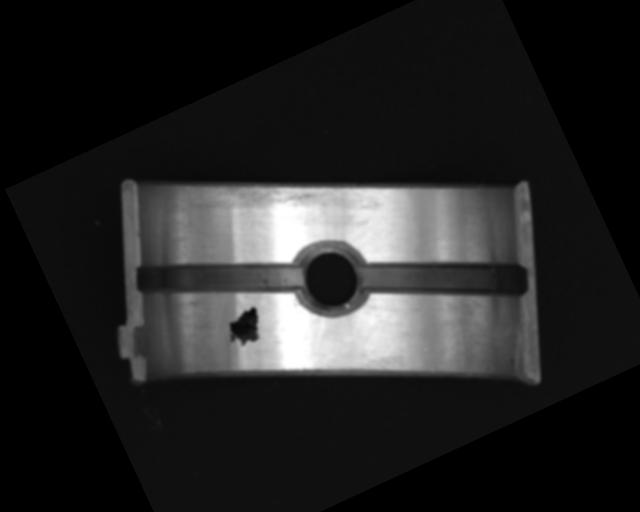blot: (218, 303, 269, 352)
gap: (356, 206, 531, 351), (131, 206, 305, 346)
hole: (282, 227, 380, 327)
scratch: (177, 128, 338, 252)
